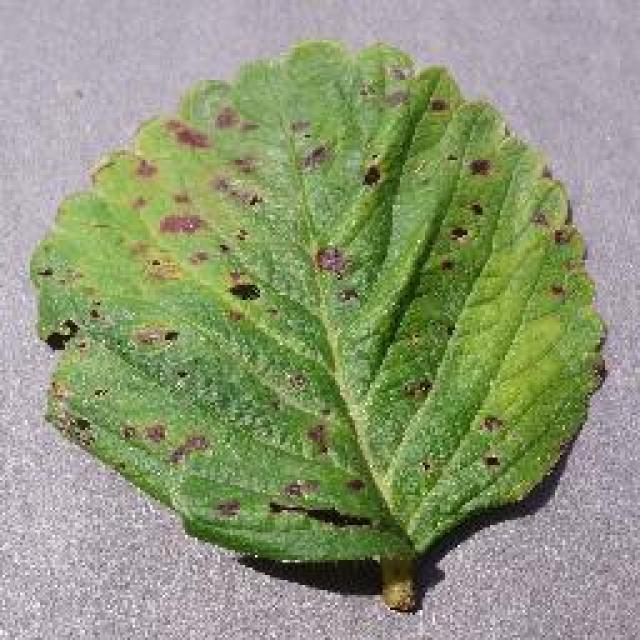Strawberry leaf scorch: (170, 115, 498, 505)
